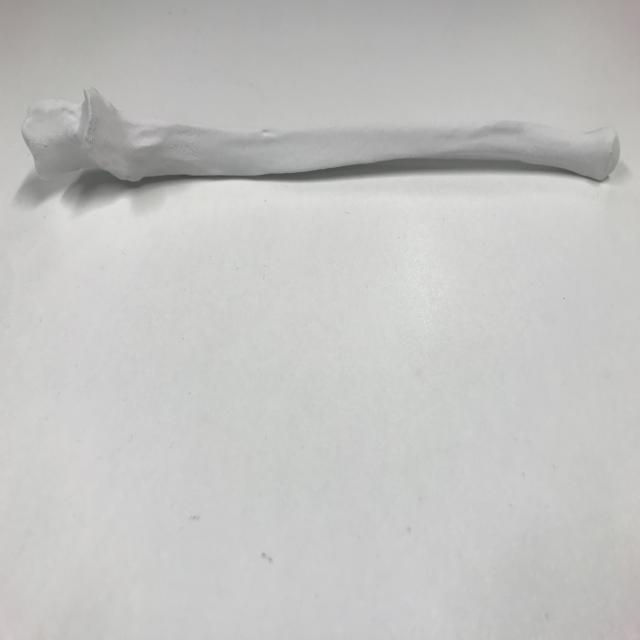bone: (16, 76, 627, 210)
